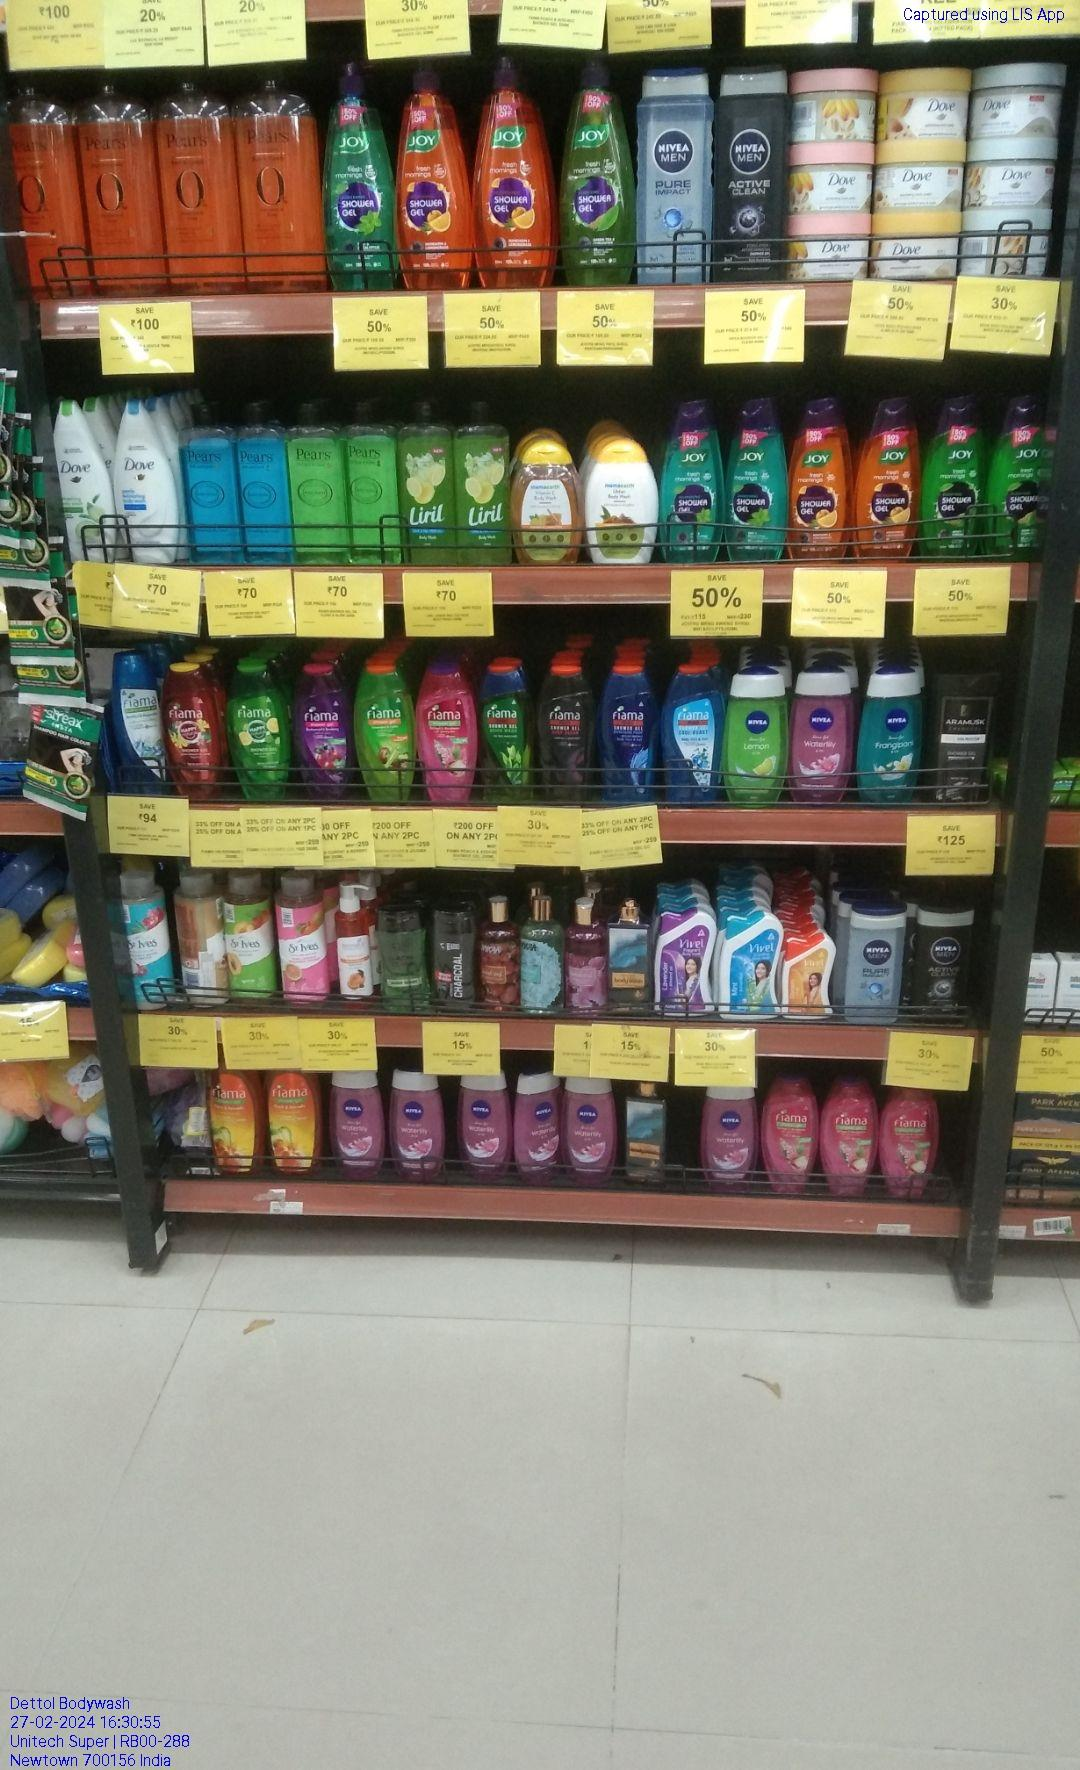Dove_Gentle_Exfoliating_Body_Wash_250ML: (115, 393, 177, 564)
Dove_Refreshing_Body_Wash_250ML: (53, 398, 109, 564)
Fiama_Shower_Gel_Lemongrass_and_Jojoba_250ML: (359, 665, 415, 805)
Fiama_Shower_Gel_Patchouli_and_Macadamia_250ML: (417, 662, 476, 804), (822, 1076, 878, 1197), (883, 1087, 940, 1201), (765, 1073, 817, 1197)
Joy_Shower_Gel_Mandarin_and_Lemongrass_250ML: (790, 398, 851, 566), (859, 398, 919, 564)
Joy_Shower_Gel_Mint_and_Eucalyptus_250ML: (660, 403, 722, 568), (728, 398, 787, 565)
Liril_Lime_and_Tea_Tree_Oil_Body_Wash_250ML: (457, 396, 512, 569), (401, 401, 451, 569)
Nivea_Shower_Gel_Frangipani_and_Oil_250ML: (859, 669, 922, 807)
Nivea_Shower_Gel_Lemon_and_Oil_250ML: (725, 669, 784, 809)
Nivea_Shower_Gel_Waterlily_and_Oil_250ML: (790, 666, 849, 803), (702, 1081, 758, 1193), (392, 1063, 444, 1181), (561, 1073, 615, 1183), (459, 1073, 508, 1182), (330, 1071, 381, 1176), (517, 1067, 561, 1185)
Pears_Pure_Glycerin_and_Lemon_Flower_Extracts_Body_Wash_250ML: (347, 401, 400, 569), (295, 402, 345, 568)
Pears_Pure_Glycerin_and_Mint_Extracts_Body_Wash_250ML: (178, 403, 239, 563), (242, 401, 288, 566)
